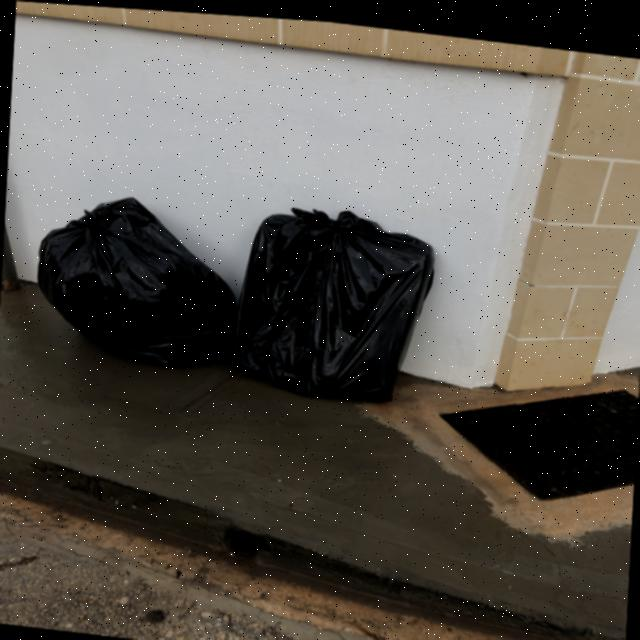Mixed Waste -Black Bag-: (235, 205, 438, 404), (35, 187, 244, 370)
